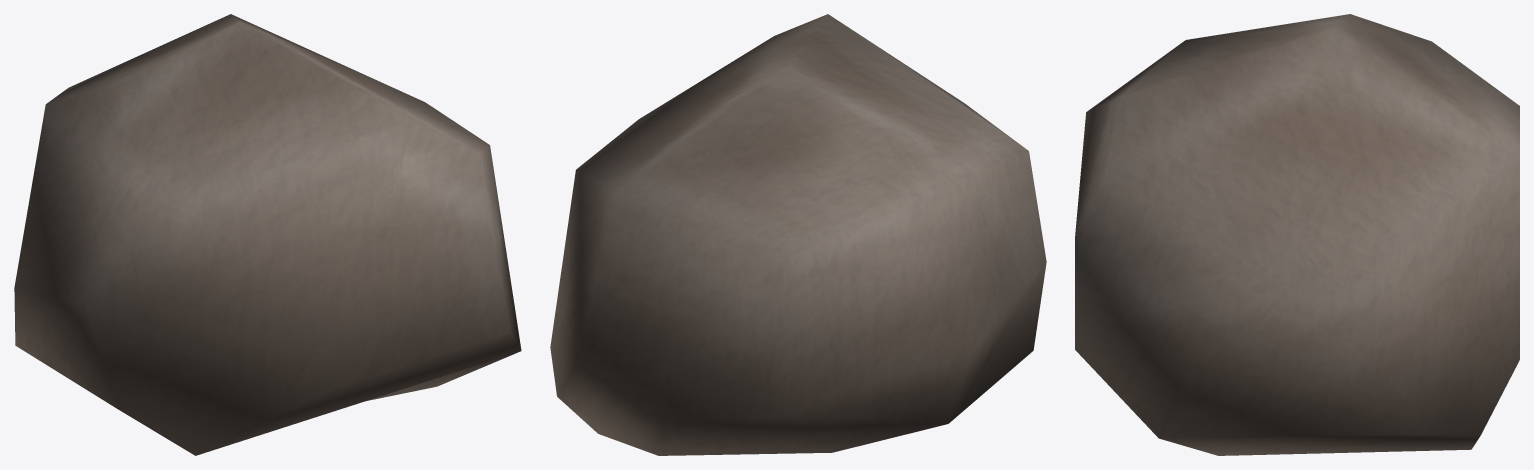
Rendered from rock1.fbx.
3 views of the same model, side by side, from view 1: azimuth 30°, elevation 25°; view 2: azimuth 150°, elevation 25°; view 3: azimuth 270°, elevation 25° (orthographic). The views are drawn at different scales.
Parts seen in each view (by area): view 1: rock1; view 2: rock1; view 3: rock1.
Part boxes in pixels (left/top/right/bottom): rock1: left=14, top=14, right=521, bottom=455; rock1: left=550, top=14, right=1046, bottom=455; rock1: left=1075, top=14, right=1519, bottom=455.
Bounding box in the file's own units: 214 × 178 × 200.
1 material, 1 textured.
